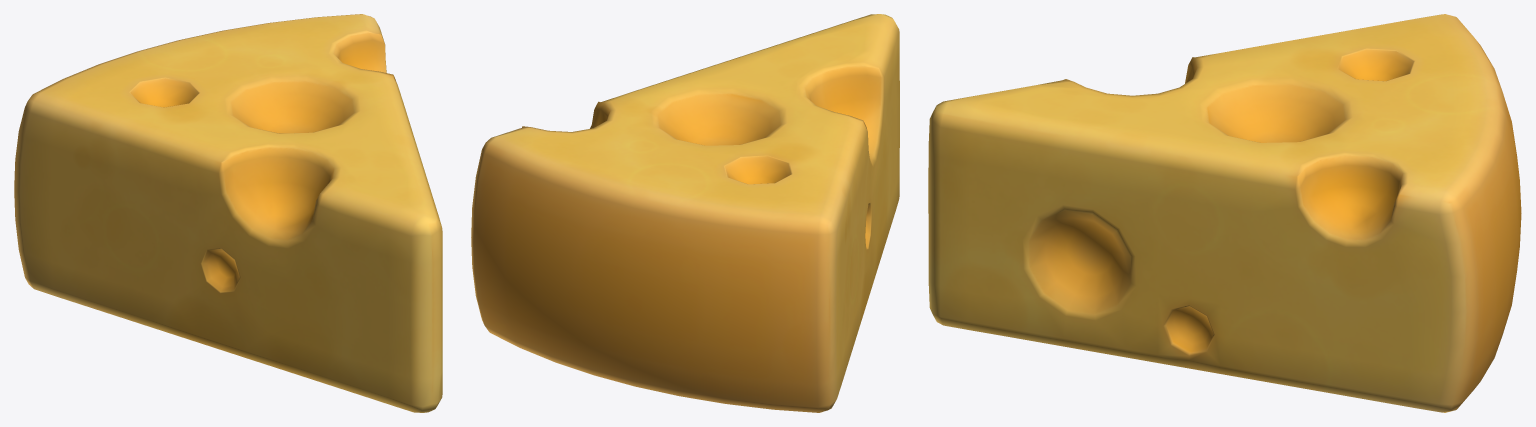
File: StackUp_Cheese.fbx
3 views of the same model, side by side, from view 1: azimuth 30°, elevation 25°; view 2: azimuth 150°, elevation 25°; view 3: azimuth 270°, elevation 25° (orthographic). The views are drawn at different scales.
Visible parts, largest first — view 1: StackUp_Cheese; view 2: StackUp_Cheese; view 3: StackUp_Cheese.
Boxes of the visible parts, x1=… form: StackUp_Cheese: x1=14, y1=14, x2=442, y2=412; StackUp_Cheese: x1=471, y1=14, x2=899, y2=412; StackUp_Cheese: x1=928, y1=14, x2=1521, y2=412.
Bounding box in the file's own units: 14.93 × 7.89 × 19.03.
